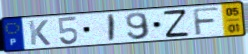5: (57, 15, 80, 46)
9: (124, 11, 151, 40)
F: (192, 7, 221, 37)
I: (108, 13, 117, 43)
K: (27, 19, 52, 46)
Z: (162, 8, 191, 39)
